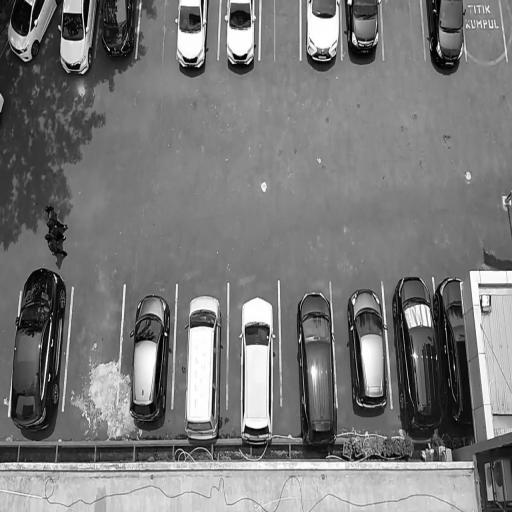Car: (6, 263, 68, 445), (393, 266, 443, 449), (294, 287, 341, 454), (434, 268, 477, 446), (126, 286, 172, 434), (238, 293, 278, 452), (182, 292, 222, 450), (346, 280, 391, 418), (1, 0, 54, 68), (54, 0, 94, 81), (427, 0, 467, 78), (222, 0, 260, 77), (302, 0, 342, 73), (172, 0, 209, 75), (98, 0, 137, 65), (346, 0, 382, 70)
Space Available: (70, 278, 118, 420), (136, 0, 178, 68), (382, 0, 426, 63), (261, 0, 303, 60), (465, 2, 506, 61)
